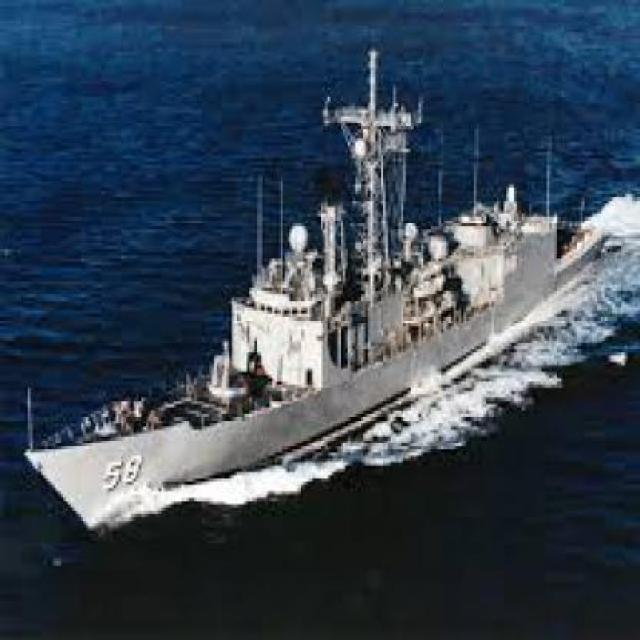warship2: (26, 23, 611, 548)
